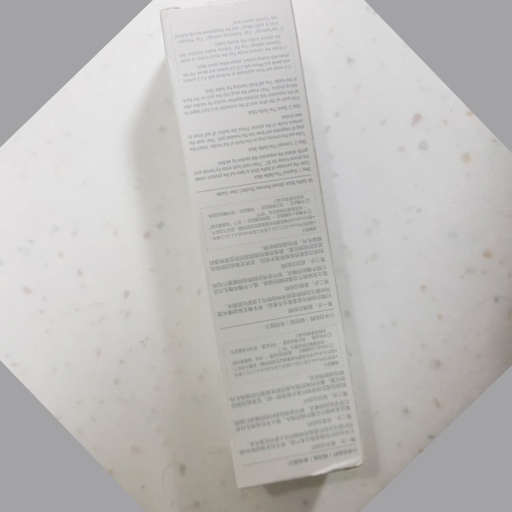Paper_0: (154, 1, 383, 497)
